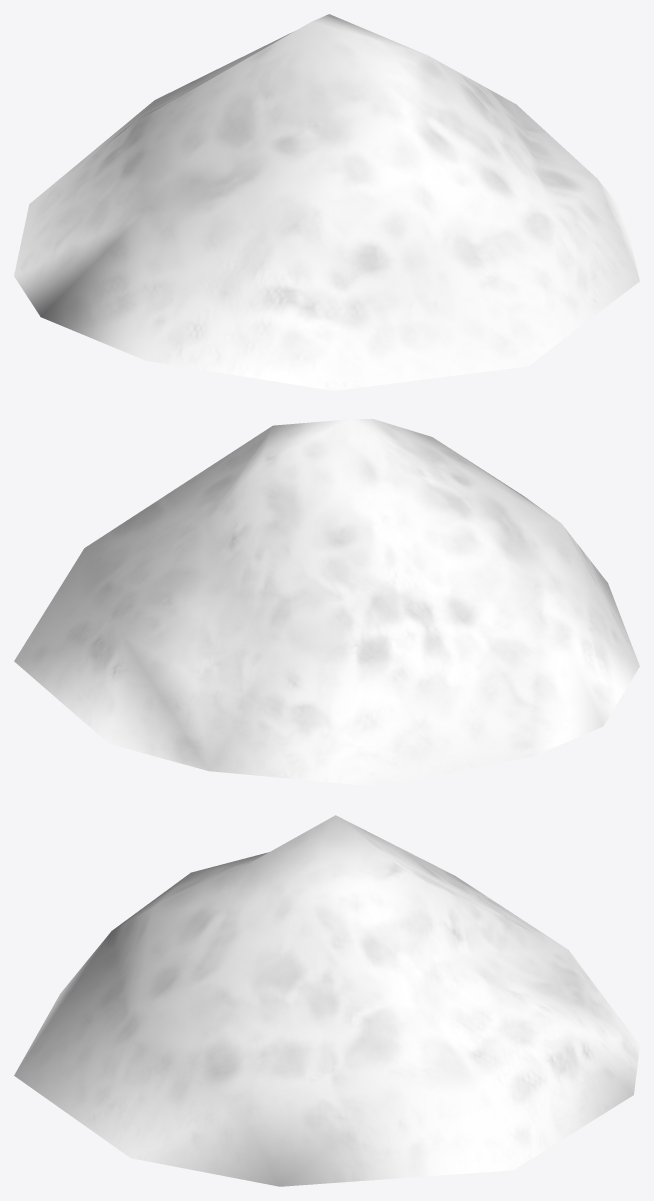
File: cocaina.FBX
3 renders of one model, top to bottom at view 1: azimuth 30°, elevation 25°; view 2: azimuth 150°, elevation 25°; view 3: azimuth 270°, elevation 25°, orthographic.
Parts seen in each view (by area): view 1: Ash_low; view 2: Ash_low; view 3: Ash_low.
Boxes of the visible parts, x1,y1,x2,y2 form: Ash_low: (14, 14, 639, 390); Ash_low: (14, 419, 639, 786); Ash_low: (14, 815, 639, 1186).
Size of the model in its own units: 1.98 by 0.8283 by 2.
Materials: 1 (1 with a texture image).
